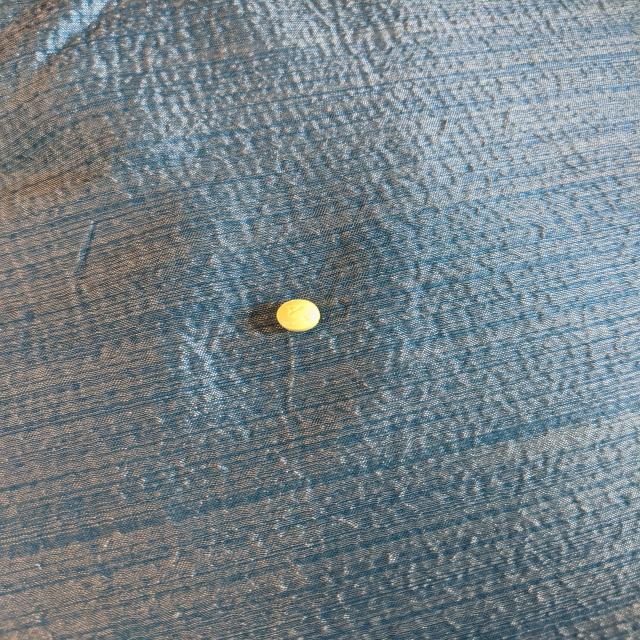non-organic waste: (276, 299, 322, 332)
